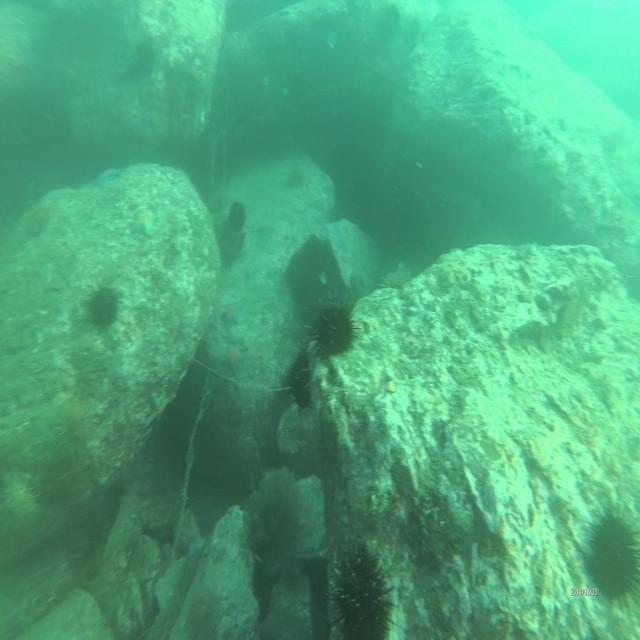echinus: (338, 543, 393, 640), (588, 511, 639, 602), (54, 399, 94, 458), (3, 472, 41, 530), (318, 308, 354, 357), (87, 286, 118, 328), (288, 354, 313, 405), (228, 199, 246, 232)
starfish: (222, 336, 243, 372), (220, 298, 241, 329)
